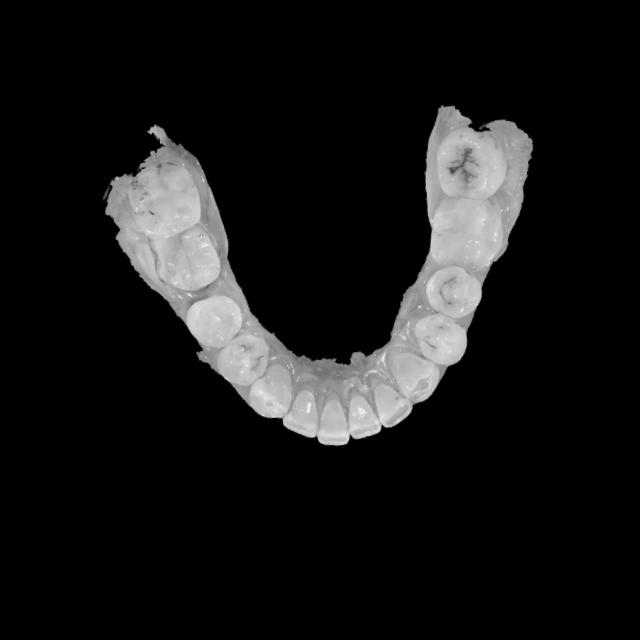tooth: (420, 183, 517, 288), (424, 112, 521, 213), (138, 217, 229, 304), (120, 156, 207, 246), (207, 324, 278, 396), (403, 302, 473, 371), (180, 286, 251, 354), (419, 257, 487, 327), (242, 352, 301, 429), (382, 339, 446, 409), (364, 370, 418, 441), (304, 382, 355, 455), (275, 378, 328, 443), (337, 378, 385, 444)
